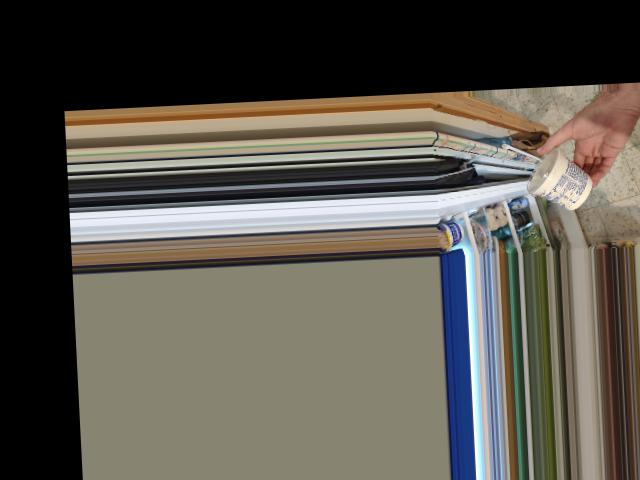cotage: (521, 146, 584, 210)
